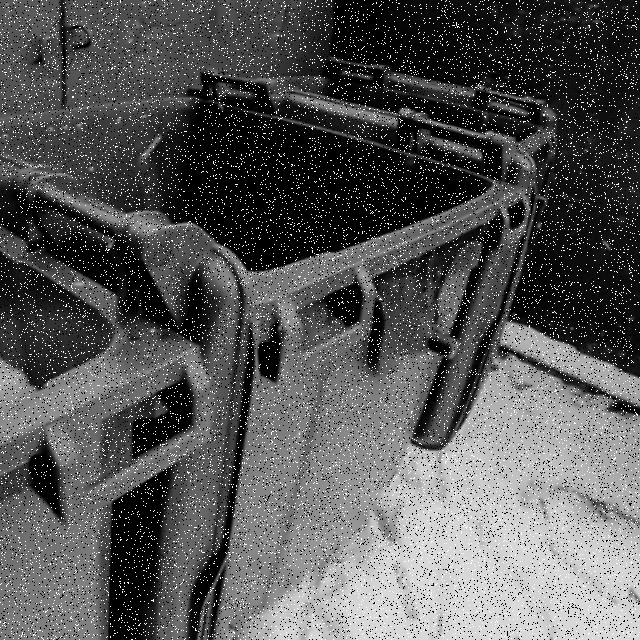Trashcan: (0, 74, 549, 616), (198, 26, 571, 456)
